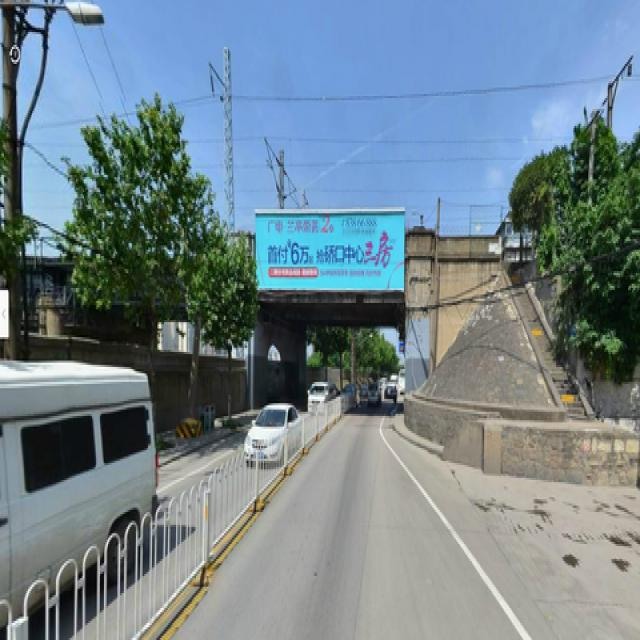meta: (198, 237, 245, 412)
